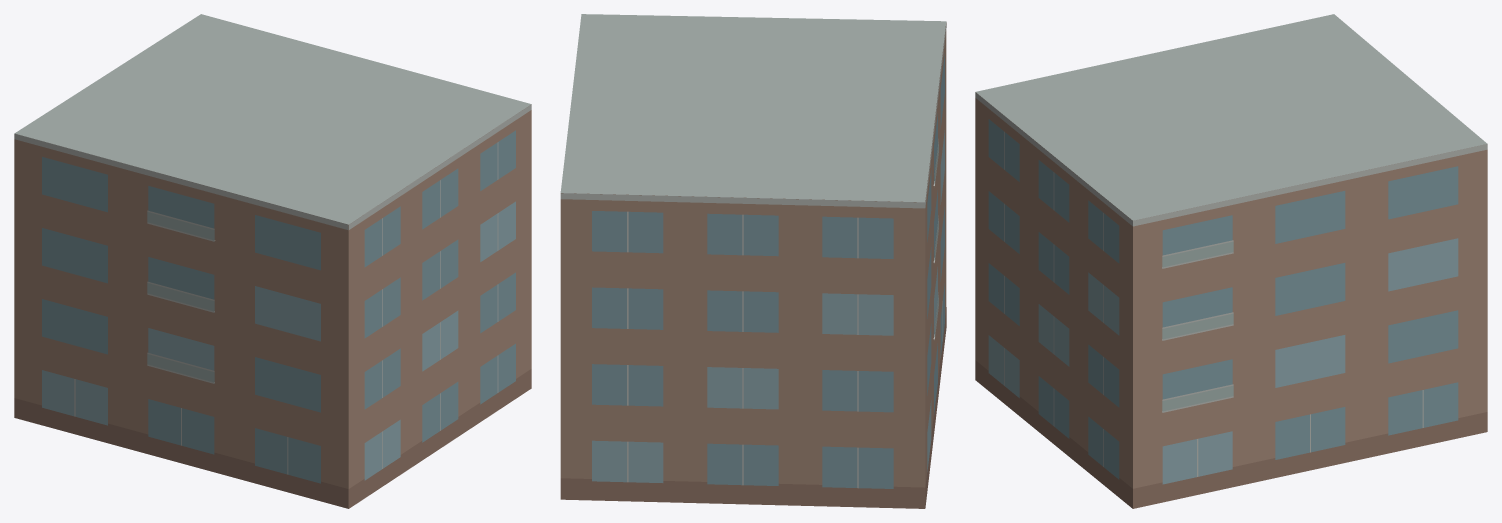
File: survey-upis-32778807.glb
3 renders of one model, left to right at view 1: azimuth 30°, elevation 25°; view 2: azimuth 150°, elevation 25°; view 3: azimuth 270°, elevation 25°, orthographic. The views are drawn at different scales.
Parts seen in each view (by area): view 1: survey-upis-32778807.tmp; view 2: survey-upis-32778807.tmp; view 3: survey-upis-32778807.tmp.
Part boxes in pixels (x1,y1,x2,y2): survey-upis-32778807.tmp: (14,14,531,508); survey-upis-32778807.tmp: (560,14,946,508); survey-upis-32778807.tmp: (975,14,1487,508).
Size of the model in its own units: 18.79 by 12.2 by 19.67.
